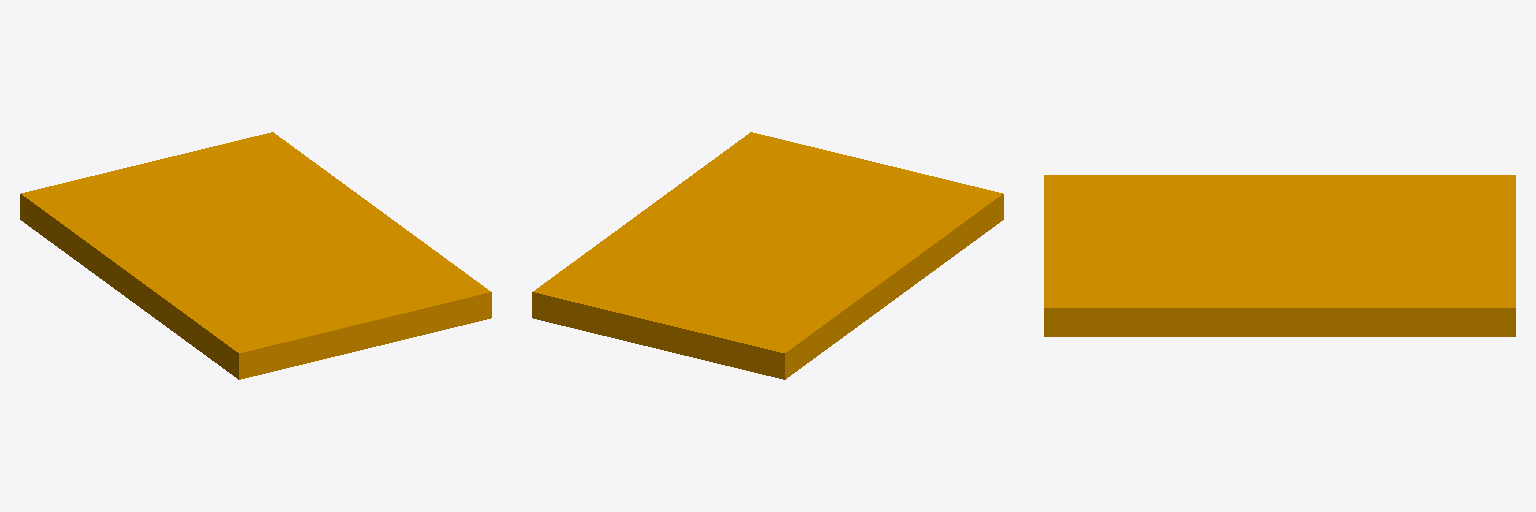
URDF robot description (desk):
<?xml version="1.0"?>
<robot
  name="desk">
  <link name="desk">
    <visual>
      <geometry>
        <box size="0.5 0.75 0.05"/>
      </geometry>
    </visual>
    <collision>
      <geometry>
        <box size="0.5 0.75 0.05"/>
      </geometry>
      <origin xyz="0 0 0"/>
    </collision>
    <inertial>
      <mass value="0.5"/>
      <inertia ixx="0.01" ixy="0.0" ixz="0.0" iyy="0.01" iyz="0.0" izz="0.01"/>
      <origin xyz="0 0 0"/>
    </inertial>
  </link>
</robot>

--- Render facts (derived) ---
3 views of the same robot in one strip: view 1: azimuth 30°, elevation 25°; view 2: azimuth 150°, elevation 25°; view 3: azimuth 270°, elevation 25° (orthographic).
Robot: desk — 1 links, 0 joints (none); root link desk; default pose: all joints at 0.
Visible links, largest first — view 1: desk; view 2: desk; view 3: desk.
Boxes of the visible links, <box> form: desk: <box>20,132,491,379</box>; desk: <box>532,132,1003,379</box>; desk: <box>1044,175,1515,336</box>.
Bounding box of the posed robot: 0.5 × 0.75 × 0.05 m (x, y, z).
Geometry: primitives only (box / cylinder / sphere), no mesh files.